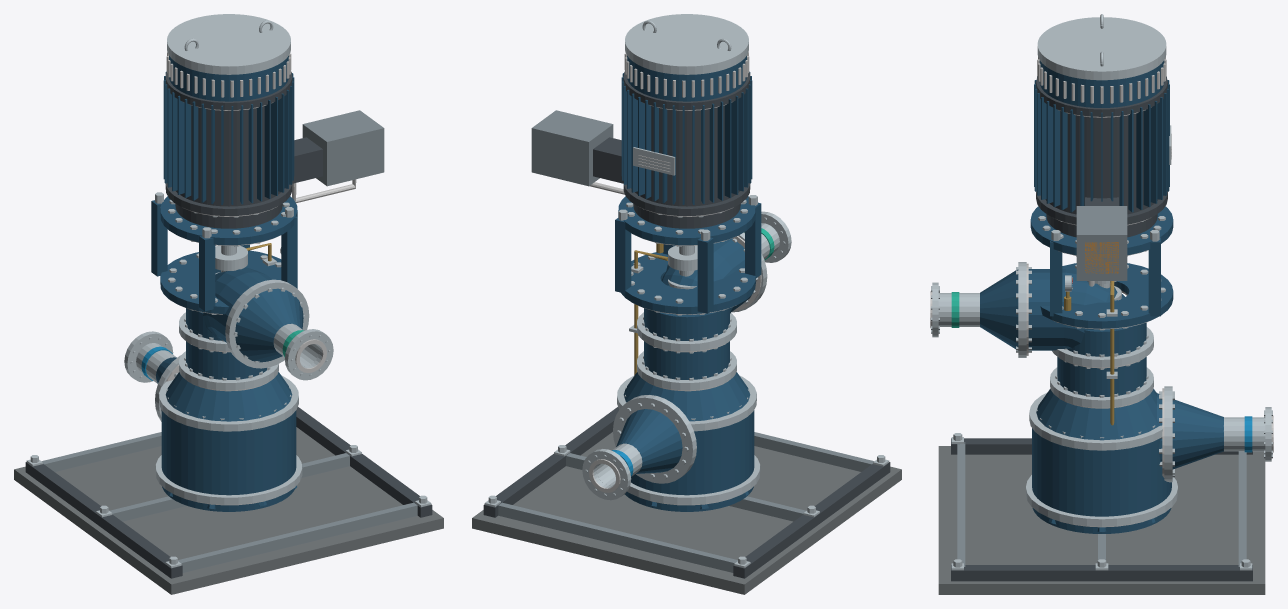
The model's file is compact.obj.
3 renders of one model, left to right at view 1: azimuth 30°, elevation 25°; view 2: azimuth 150°, elevation 25°; view 3: azimuth 270°, elevation 25°, orthographic. The views are drawn at different scales.
Size of the model in its own units: 0.5547 by 0.9 by 0.5683.
